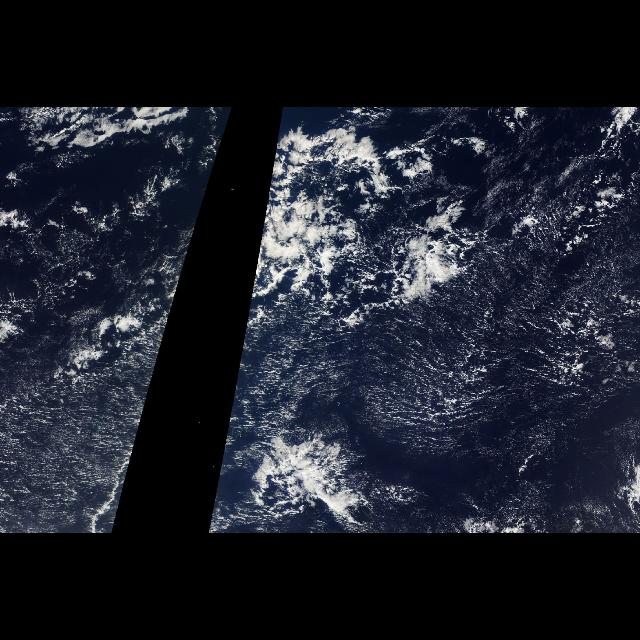Sugar: (206, 215, 638, 533), (0, 281, 182, 533)
